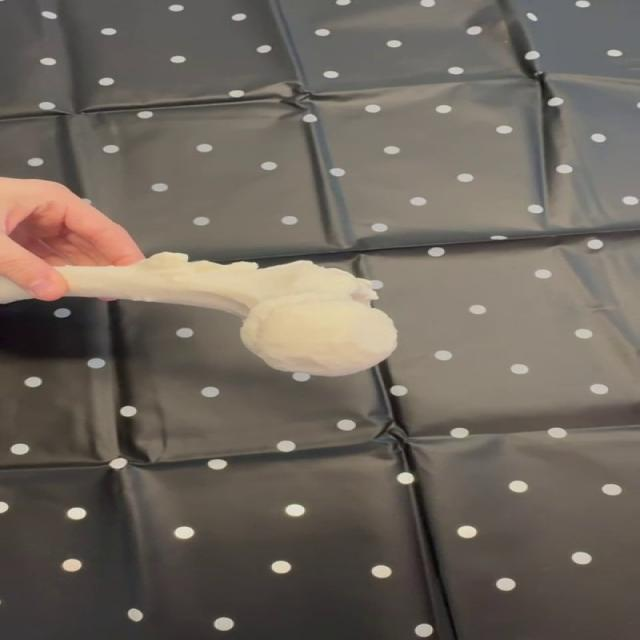bones: (58, 253, 397, 376)
